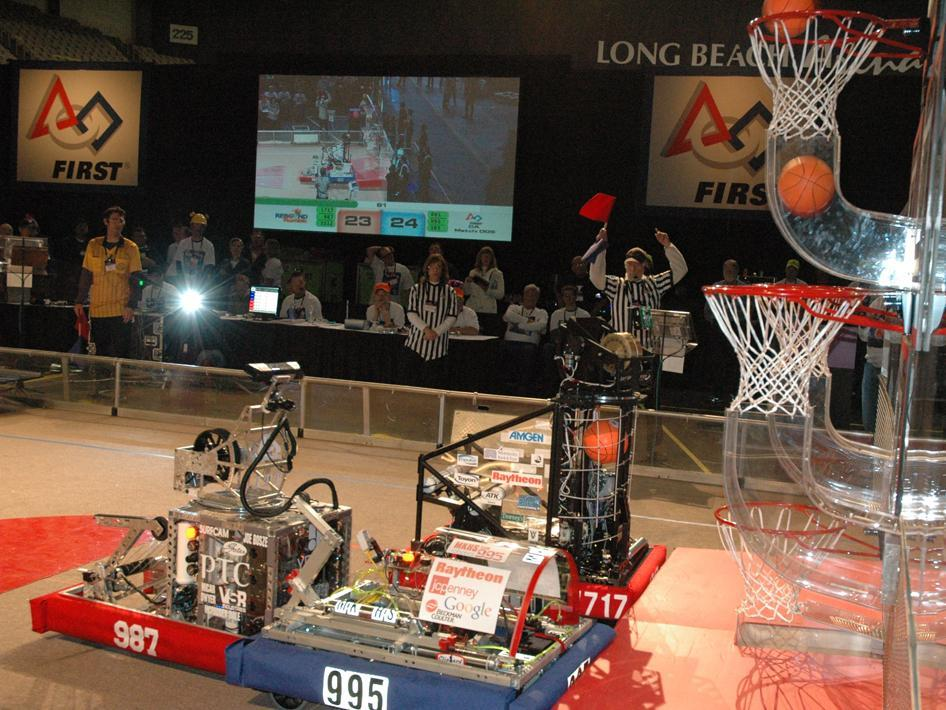robot: (26, 355, 353, 679), (378, 321, 670, 624), (223, 506, 630, 710)
